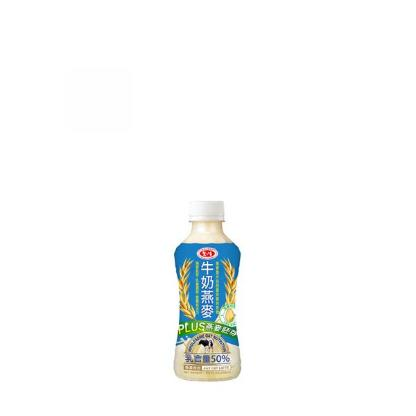Plastic Bottle: (174, 202, 240, 381)
